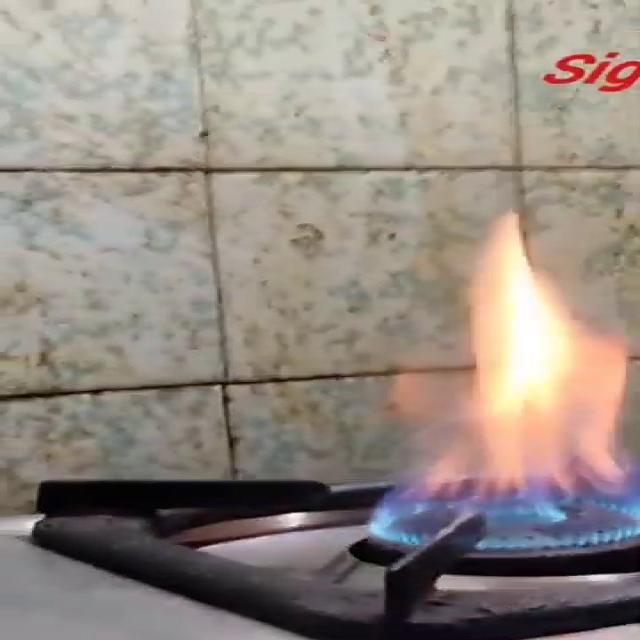fire: (362, 190, 640, 570)
